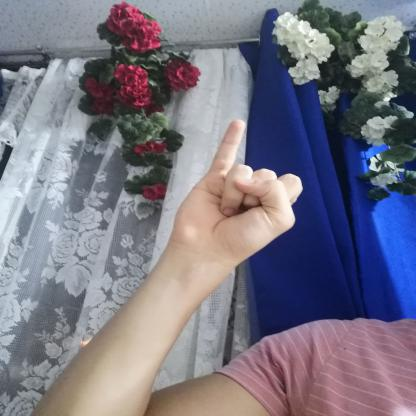MEEM: (153, 112, 316, 274)
